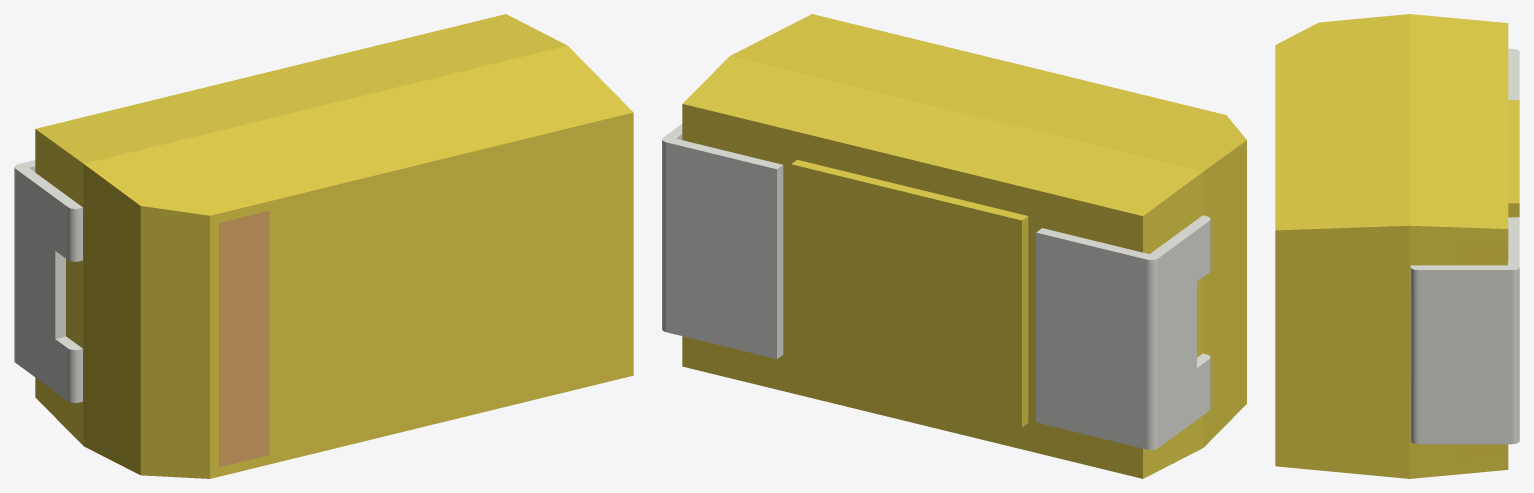
File: CP_EIA-6032-28_Kemet-C.glb
3 renders of one model, left to right at view 1: azimuth 30°, elevation 25°; view 2: azimuth 150°, elevation 25°; view 3: azimuth 270°, elevation 25°, orthographic. The views are drawn at different scales.
Visible parts, largest first — view 1: Shape_IndexedFaceSet.025, Shape_IndexedFaceSet.024, Shape_IndexedFaceSet.014, Shape_IndexedFaceSet.037, Shape_IndexedFaceSet.026, Shape_IndexedFaceSet.045, Shape_IndexedFaceSet.033, Shape_IndexedFaceSet.015, Shape_IndexedFaceSet.043, Shape_IndexedFaceSet.016, Shape_IndexedFaceSet.032, Shape_IndexedFaceSet.034; view 2: Shape_IndexedFaceSet.036, Shape_IndexedFaceSet.011, Shape_IndexedFaceSet.024, Shape_IndexedFaceSet.014, Shape_IndexedFaceSet, Shape_IndexedFaceSet.029, Shape_IndexedFaceSet.026, Shape_IndexedFaceSet.033, Shape_IndexedFaceSet.015, Shape_IndexedFaceSet.028, Shape_IndexedFaceSet.020, Shape_IndexedFaceSet.019 (+4 smaller); view 3: Shape_IndexedFaceSet.013, Shape_IndexedFaceSet.024, Shape_IndexedFaceSet.014, Shape_IndexedFaceSet.005, Shape_IndexedFaceSet.010, Shape_IndexedFaceSet.006, Shape_IndexedFaceSet.002, Shape_IndexedFaceSet.020, Shape_IndexedFaceSet.001, Shape_IndexedFaceSet.016.
Boxes of the visible parts, box(x1,y1,x2,y2) form: Shape_IndexedFaceSet.025: box(210, 112, 633, 478); Shape_IndexedFaceSet.024: box(84, 45, 633, 215); Shape_IndexedFaceSet.014: box(36, 14, 567, 163); Shape_IndexedFaceSet.037: box(140, 206, 209, 478); Shape_IndexedFaceSet.026: box(83, 164, 140, 475); Shape_IndexedFaceSet.045: box(219, 210, 269, 467); Shape_IndexedFaceSet.033: box(15, 169, 67, 400); Shape_IndexedFaceSet.015: box(35, 129, 83, 445); Shape_IndexedFaceSet.043: box(55, 251, 65, 338); Shape_IndexedFaceSet.016: box(14, 160, 82, 208); Shape_IndexedFaceSet.032: box(68, 207, 79, 261); Shape_IndexedFaceSet.034: box(68, 348, 79, 402); Shape_IndexedFaceSet.036: box(791, 164, 1021, 427); Shape_IndexedFaceSet.011: box(682, 104, 1142, 478); Shape_IndexedFaceSet.024: box(730, 14, 1246, 171); Shape_IndexedFaceSet.014: box(682, 56, 1202, 215); Shape_IndexedFaceSet: box(666, 142, 776, 358); Shape_IndexedFaceSet.029: box(1036, 232, 1146, 449); Shape_IndexedFaceSet.026: box(1203, 140, 1246, 447); Shape_IndexedFaceSet.033: box(1158, 221, 1209, 447); Shape_IndexedFaceSet.015: box(1143, 172, 1203, 478); Shape_IndexedFaceSet.028: box(1147, 258, 1158, 449); Shape_IndexedFaceSet.020: box(791, 159, 1027, 220); Shape_IndexedFaceSet.019: box(1022, 216, 1028, 427); Shape_IndexedFaceSet.013: box(1275, 225, 1409, 478); Shape_IndexedFaceSet.024: box(1275, 14, 1409, 230); Shape_IndexedFaceSet.014: box(1409, 14, 1508, 228); Shape_IndexedFaceSet.005: box(1418, 270, 1511, 444); Shape_IndexedFaceSet.010: box(1409, 225, 1508, 478); Shape_IndexedFaceSet.006: box(1410, 267, 1418, 443); Shape_IndexedFaceSet.002: box(1512, 268, 1519, 443); Shape_IndexedFaceSet.020: box(1508, 100, 1519, 203); Shape_IndexedFaceSet.001: box(1410, 217, 1519, 269); Shape_IndexedFaceSet.016: box(1508, 48, 1519, 99).
Size of what is drawn, in the model's own units: 2.36 by 1.26 by 1.1.
